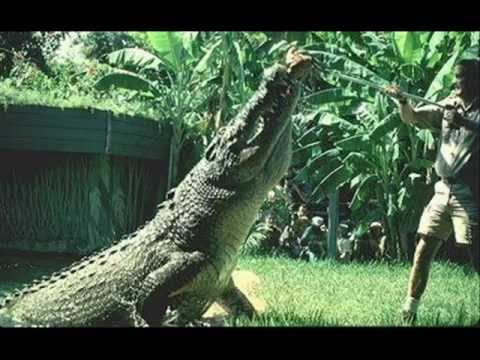Crocodile: (1, 47, 310, 330)
